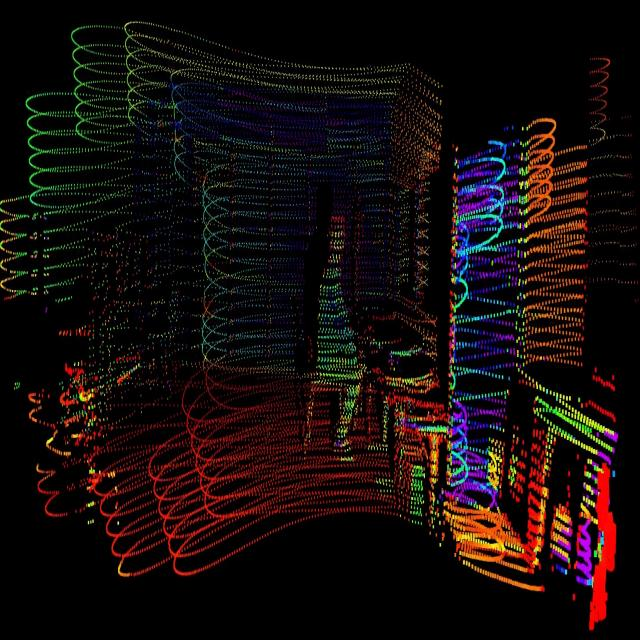human: (305, 195, 371, 474)
